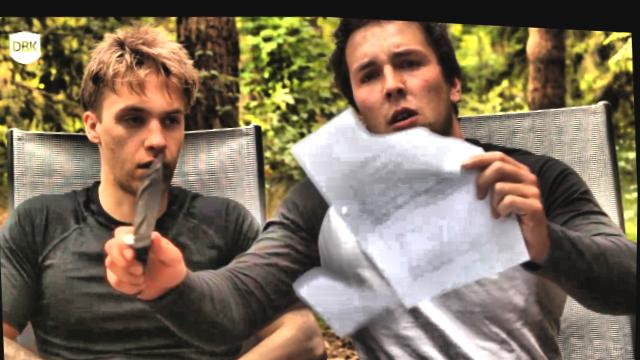knife: (108, 142, 180, 300)
